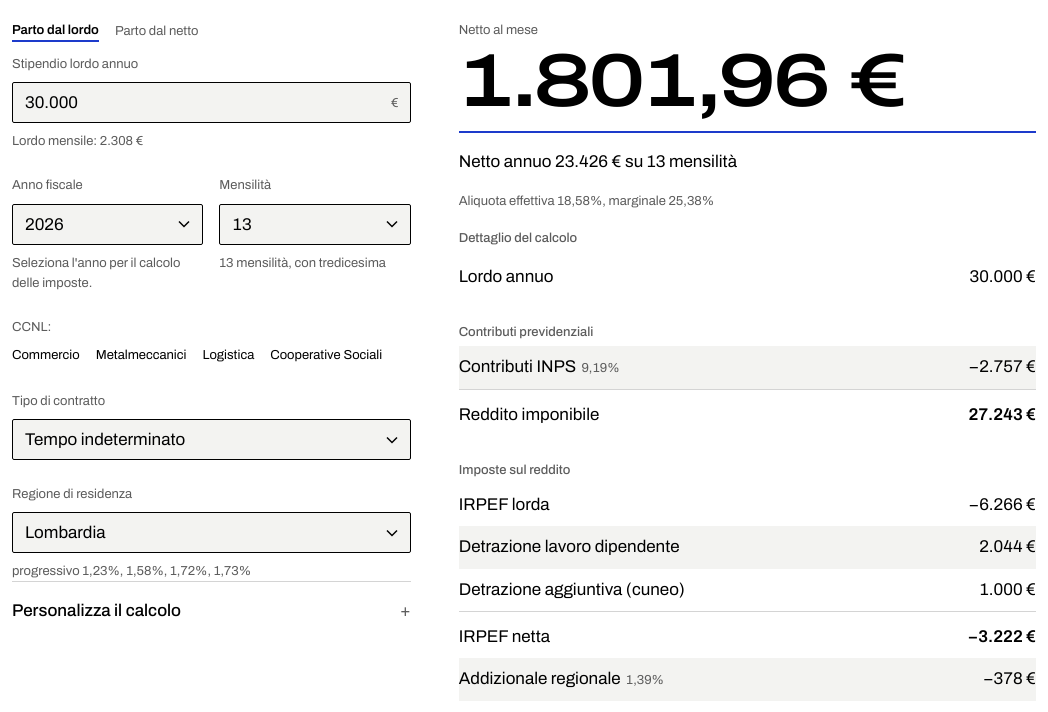
Test case: EmployeePage › asks for the wanted net and reports the gross it needs
Click the button "Parto dal netto": {"x": 157, "y": 31} [115,20,198,42]
(page scrolled)
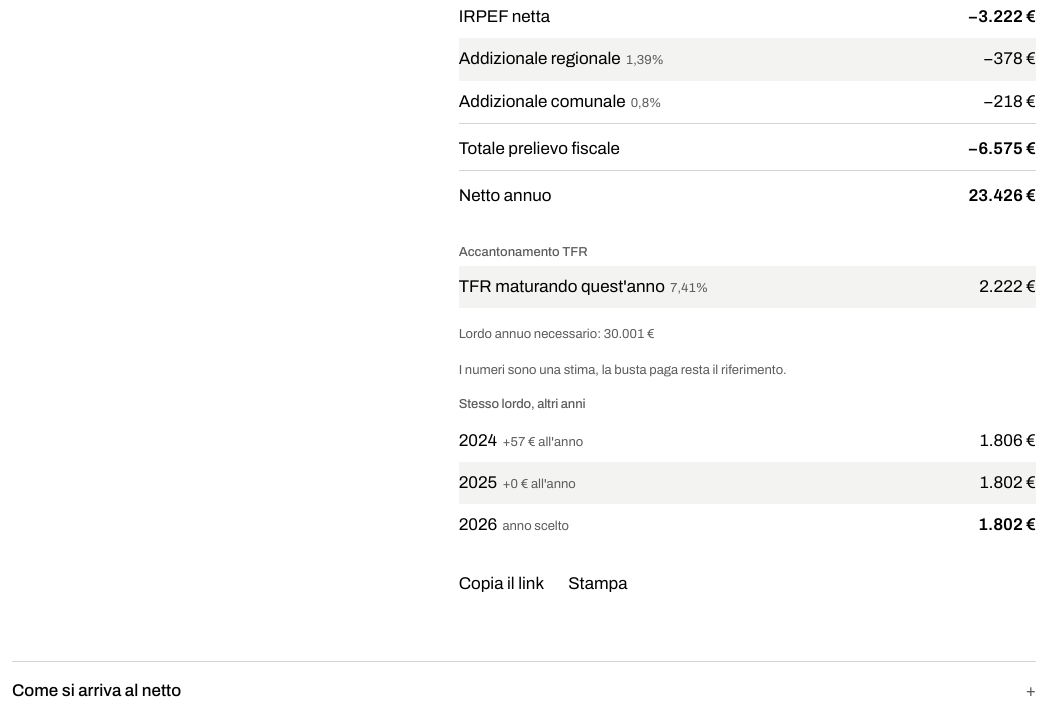
expect the label labelled "Stipendio lordo annuo" is gone: met
expect the text "Lordo annuo necessario: 30.001 €" is shown: met, box [459,327,655,341]
